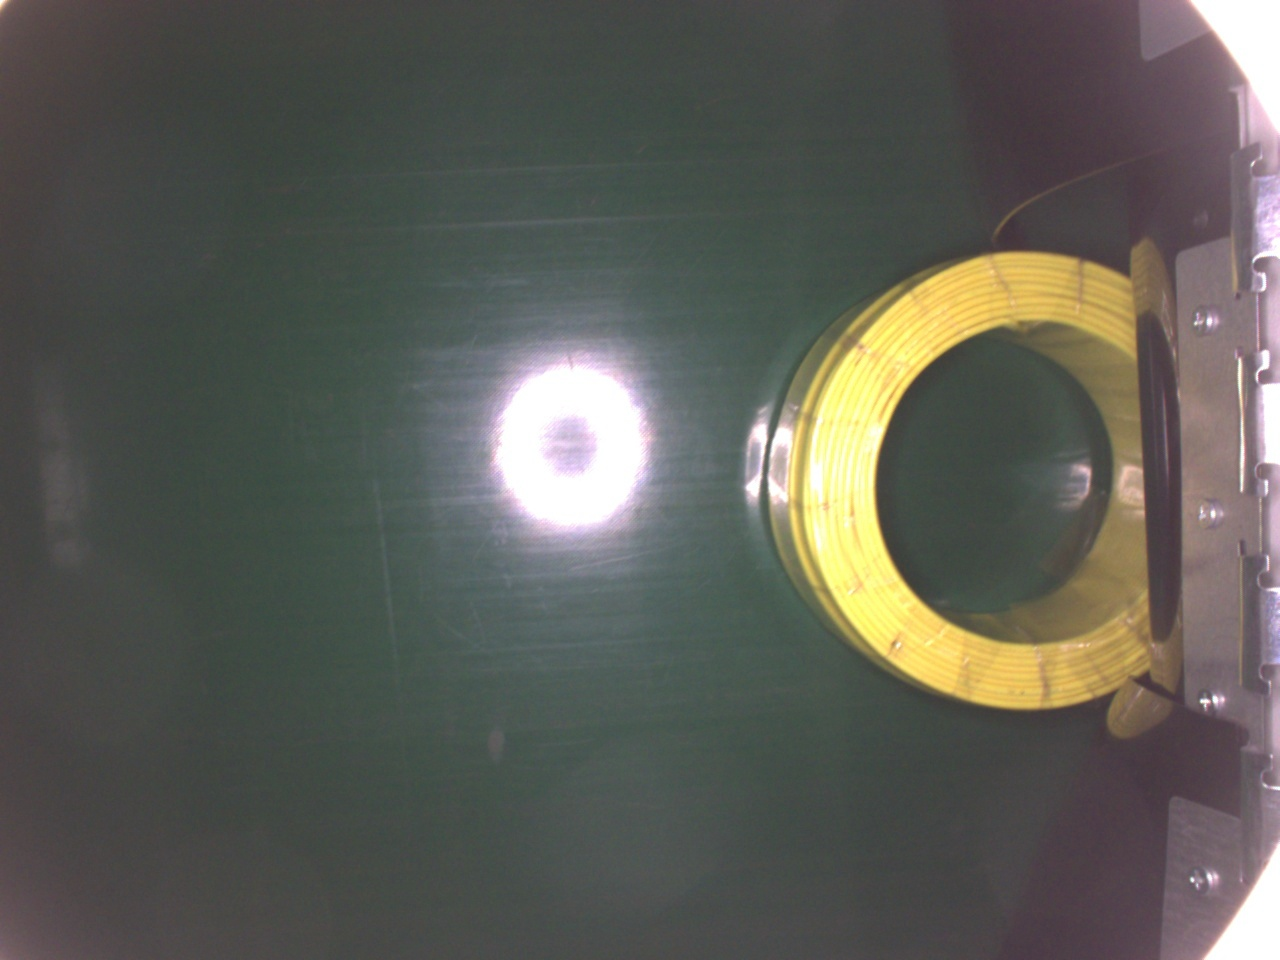yellow: (762, 247, 1150, 710)
